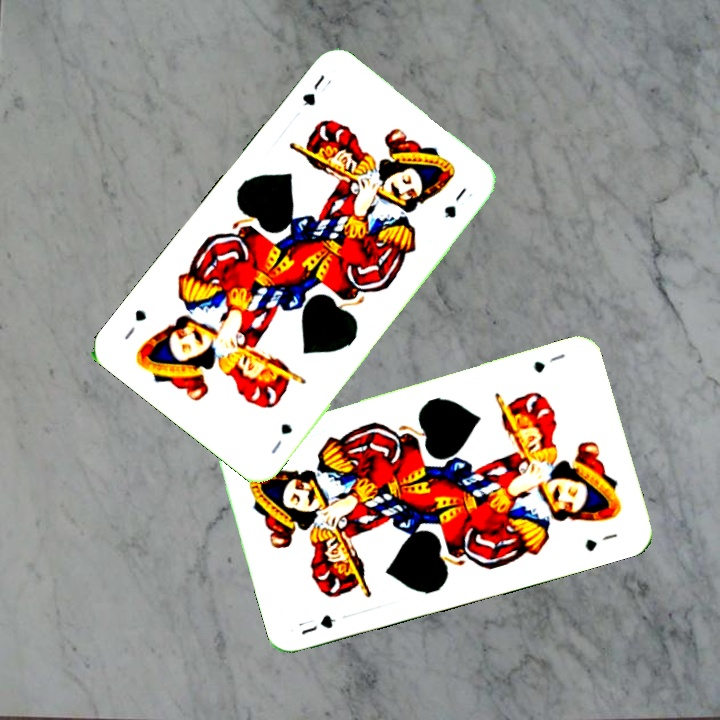GU: (298, 70, 328, 109), (297, 610, 338, 638), (267, 419, 295, 457), (529, 349, 568, 375)
